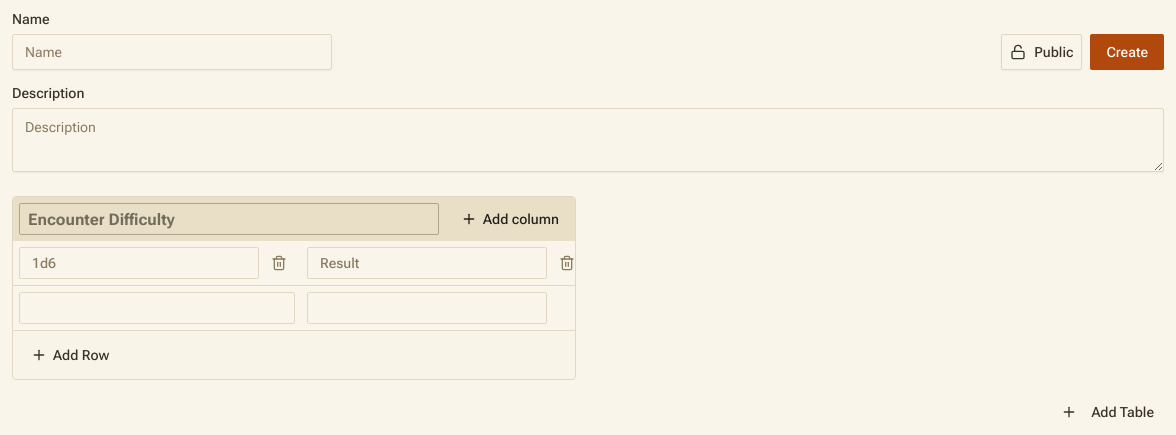
Scenario: CreateEditRandomTable › blocks submit when a column name is empty
Type "Weather" into the field with placeholder "Name" at (172, 52), box [12,34,332,70]
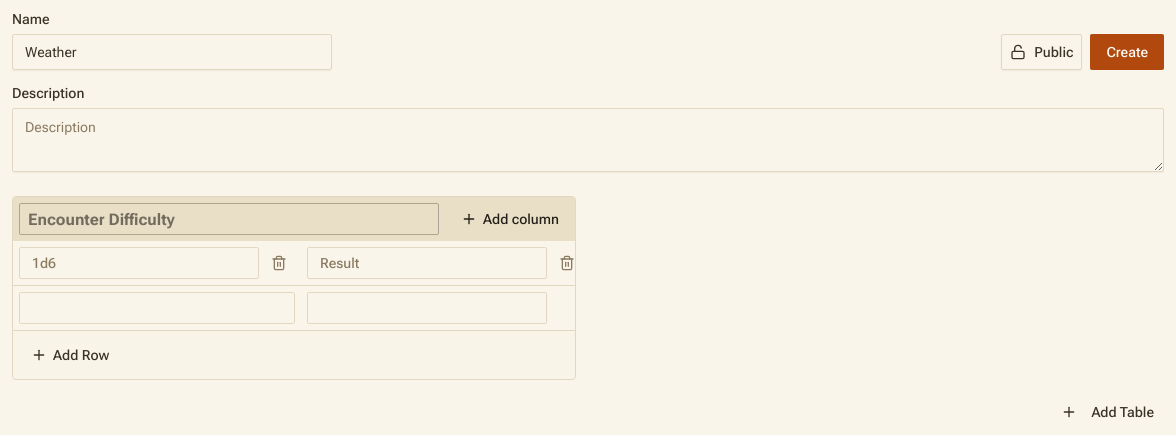
Type "Weather" into the field named "Table title" at (229, 219), box [19,203,439,235]
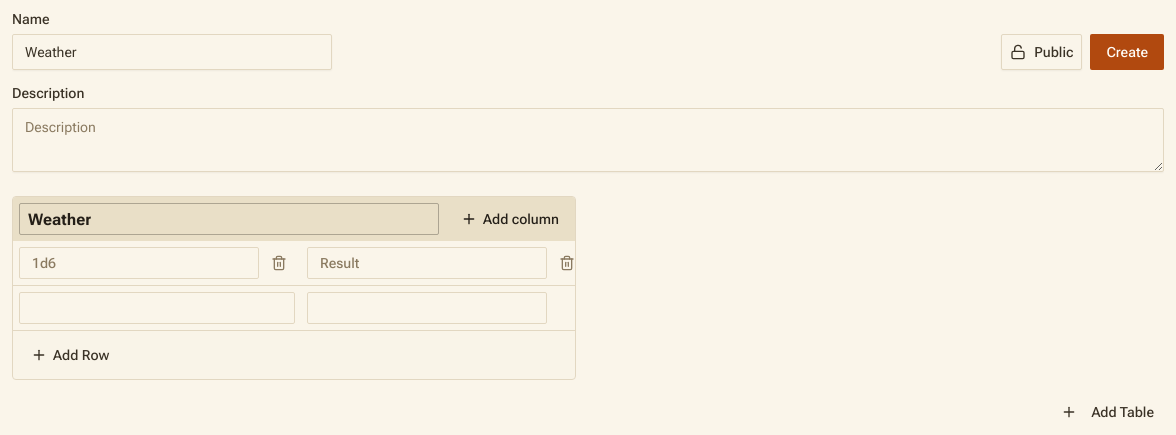
Clear the 1st field named "Column name" at (139, 263), box [19,247,259,279]
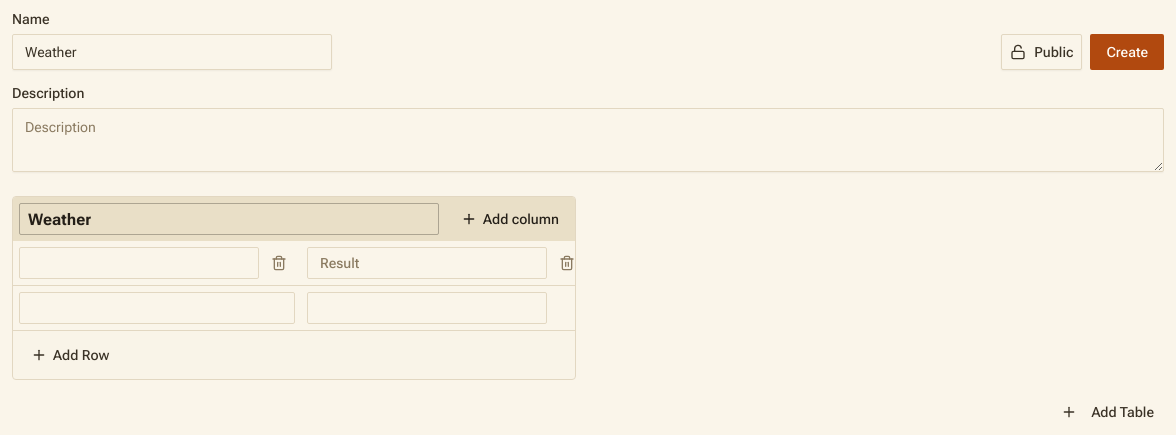
Click the button "Create" at (1127, 52), box [1090,34,1164,70]
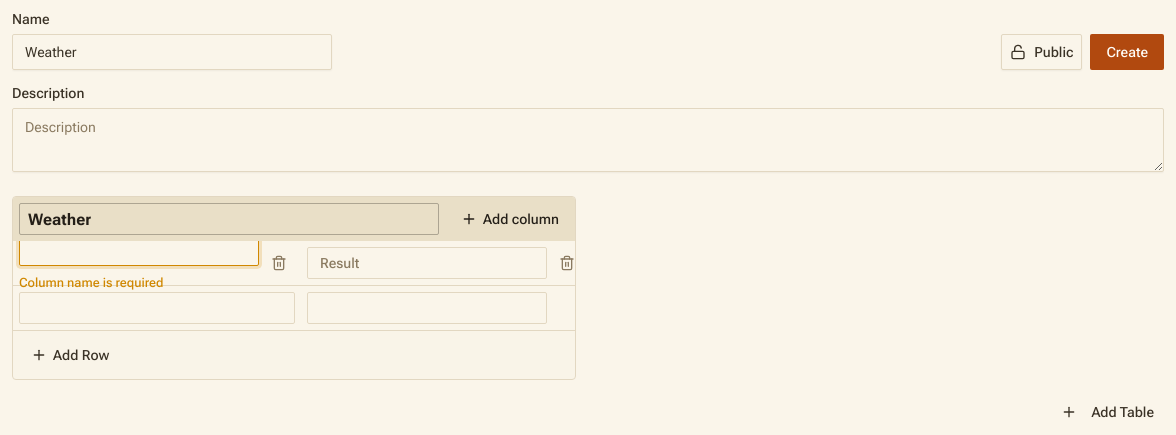
Expected: the text "Column name is required" is shown, [19,275,164,290]
